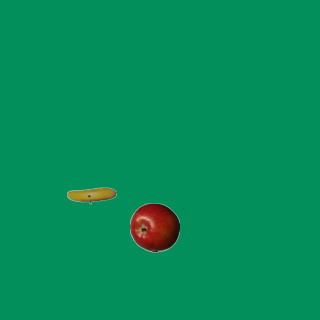Apple Braeburn: (129, 202, 179, 252)
Banana: (66, 170, 116, 220)
